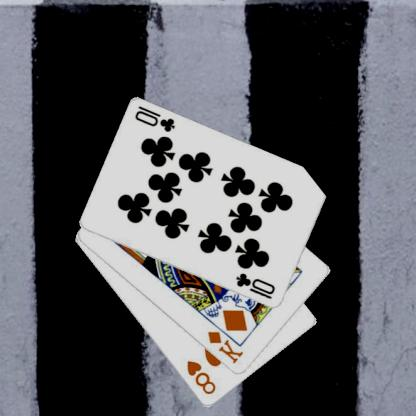10C: (235, 270, 279, 301), (134, 104, 178, 134)
8H: (186, 358, 219, 397)
KD: (206, 329, 247, 365)
